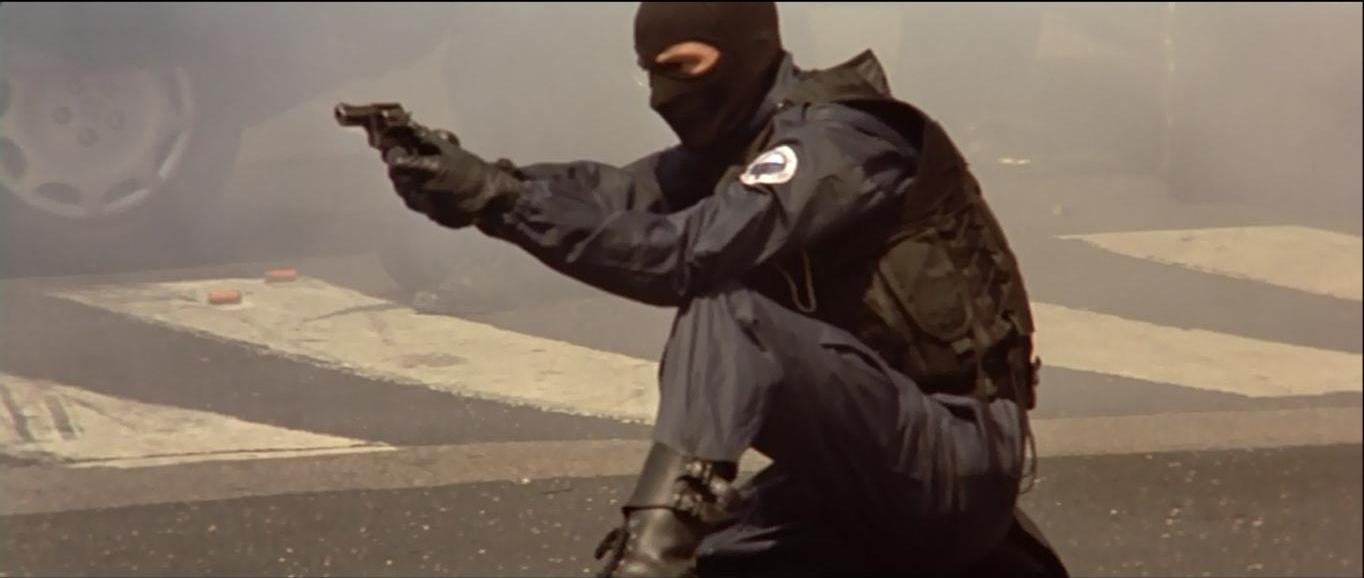gun: (328, 95, 430, 172)
